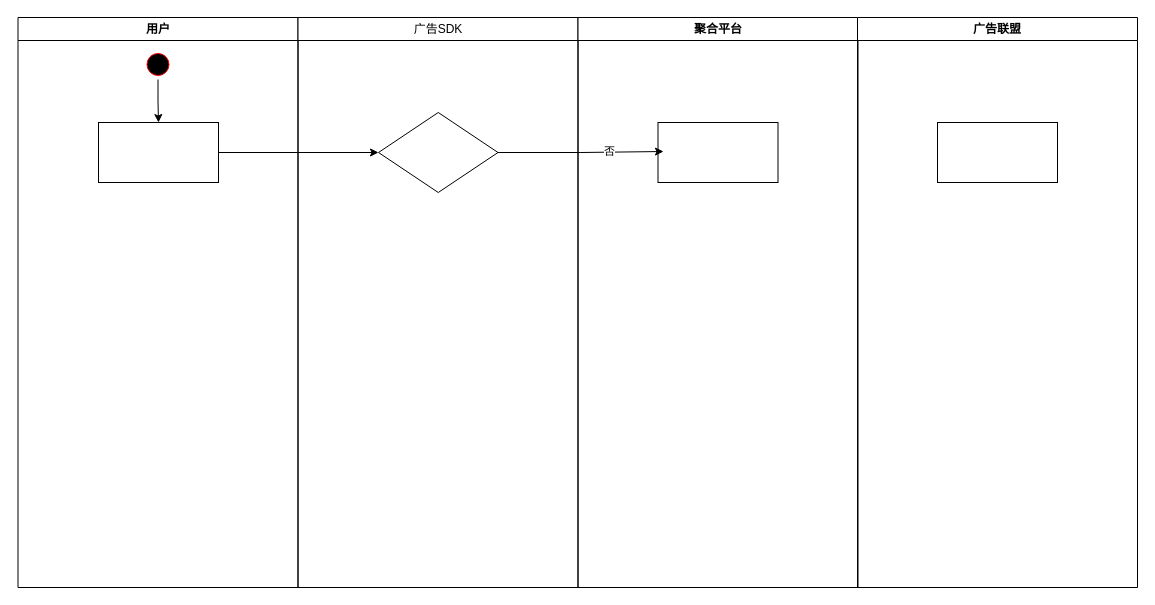
Some shapes in this 1155 by 605 pixel diagram are drawn without their labels. The centre of each missing label's shape, as x and y in pixels:
"判断mid信息是否缓存" goes at point 438,152.
"请求广告展示 mid、appkey" goes at point 158,152.
